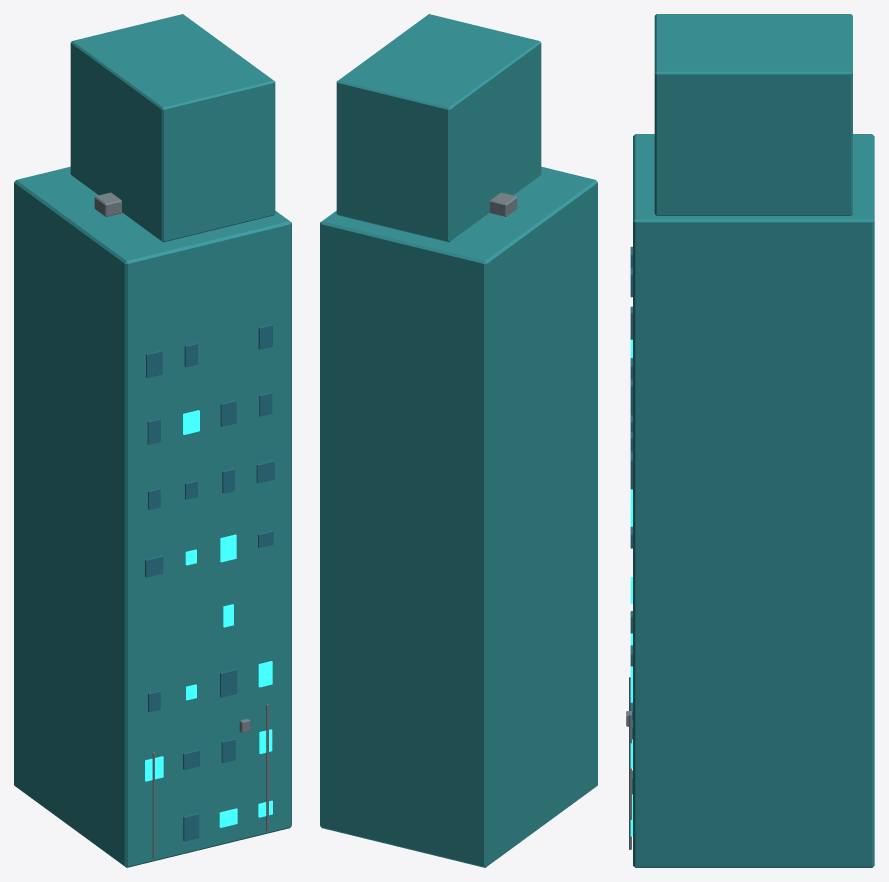
The model's file is building_009_seed100.glb.
3 views of the same model, side by side, from view 1: azimuth 30°, elevation 25°; view 2: azimuth 150°, elevation 25°; view 3: azimuth 270°, elevation 25° (orthographic). The views are drawn at different scales.
Visible parts, largest first — view 1: building_009_seed100; view 2: building_009_seed100; view 3: building_009_seed100.
Boxes of the visible parts, x1=… form: building_009_seed100: x1=14, y1=14, x2=291, y2=867; building_009_seed100: x1=320, y1=14, x2=597, y2=867; building_009_seed100: x1=626, y1=14, x2=874, y2=867.
Size of the model in its own units: 6.59 by 27.92 by 7.92.
